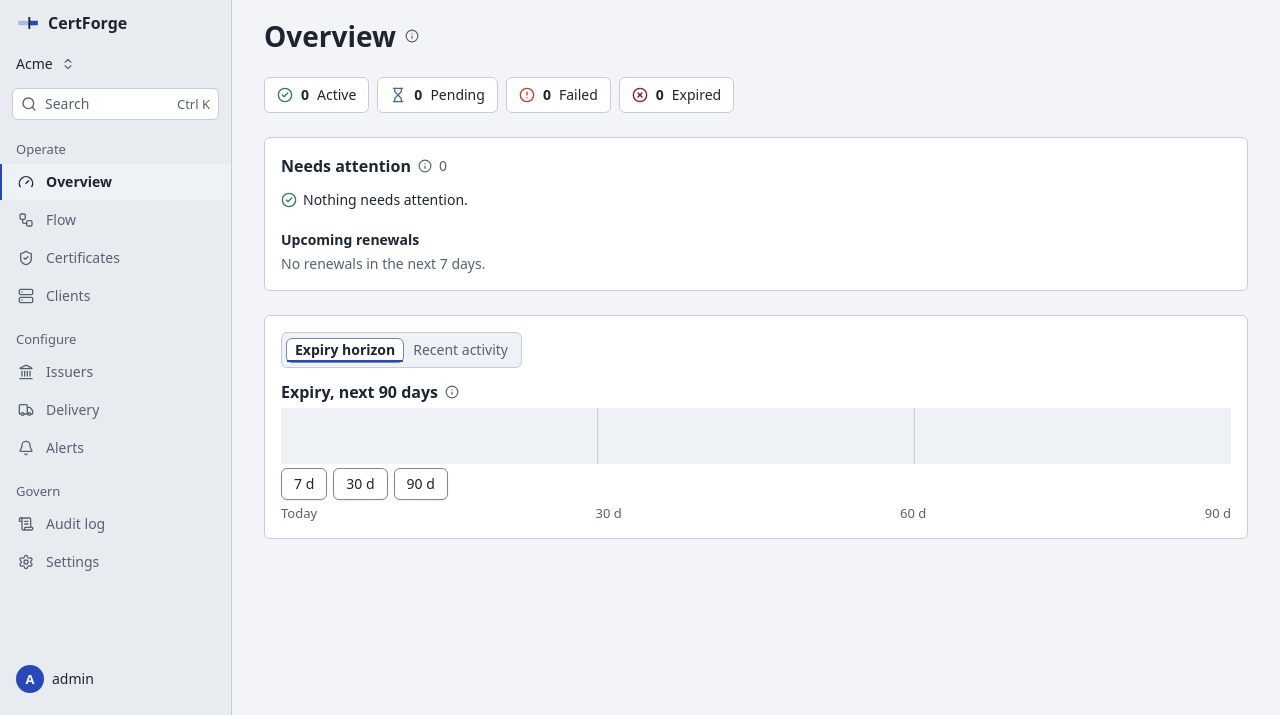
keeps the brushed expiry range in the URL, and clears it there too
The image size is (1280, 715).
Press the mouse on the picture named "certificates expire in the next 90 days" at (756, 436), box [281,408,1231,464]
(page scrolled)
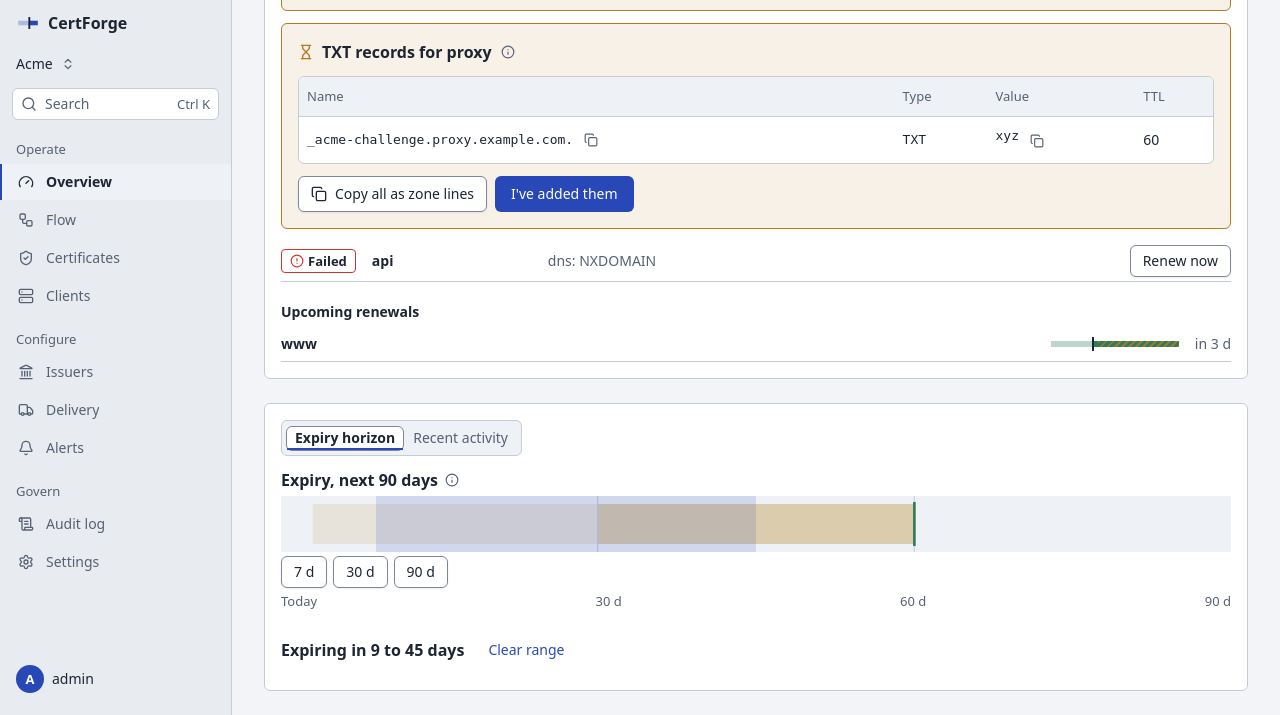
Expected: the heading "Expiring in 9 to 45 days" is shown, [281,638,464,662]
Click the button "Clear range".
click(526, 650)  # box [476,634,577,666]
(page scrolled)
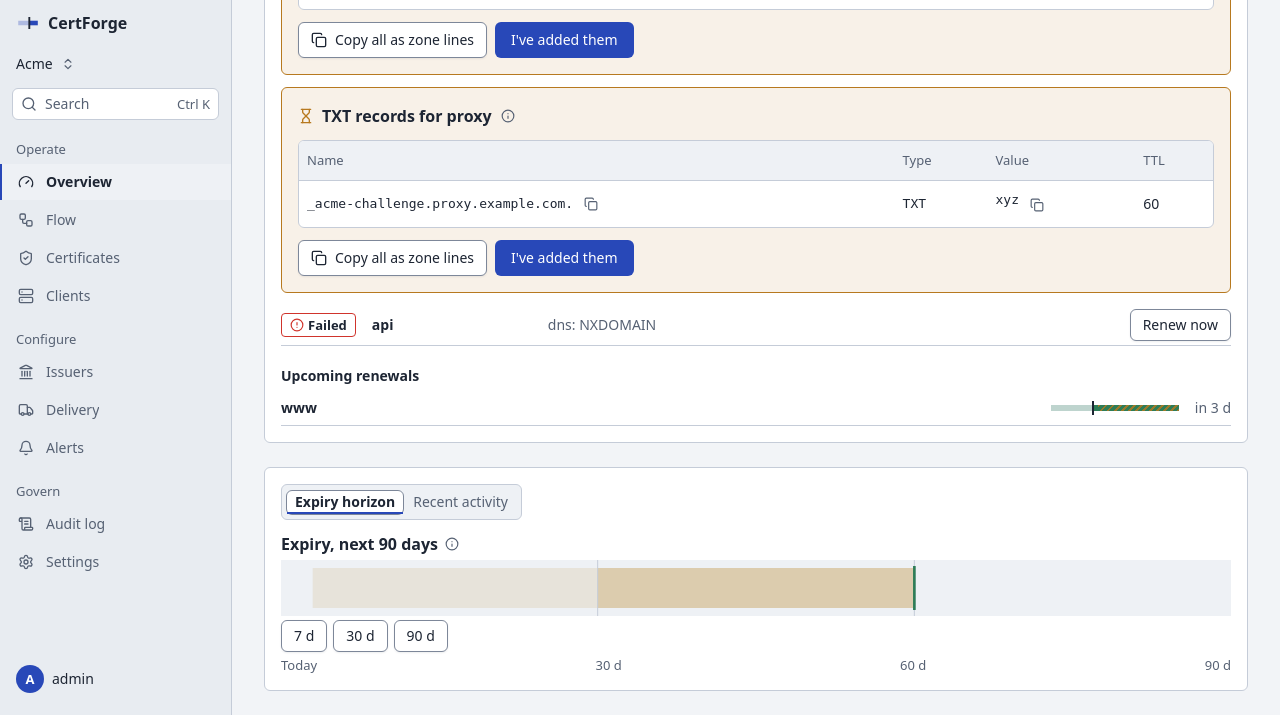
Expected: the heading "Expiring in " is gone
